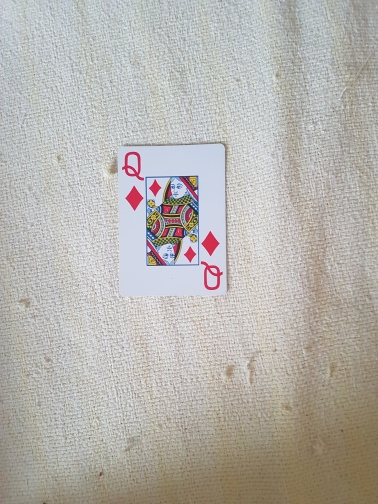queen: (119, 144, 228, 294)
